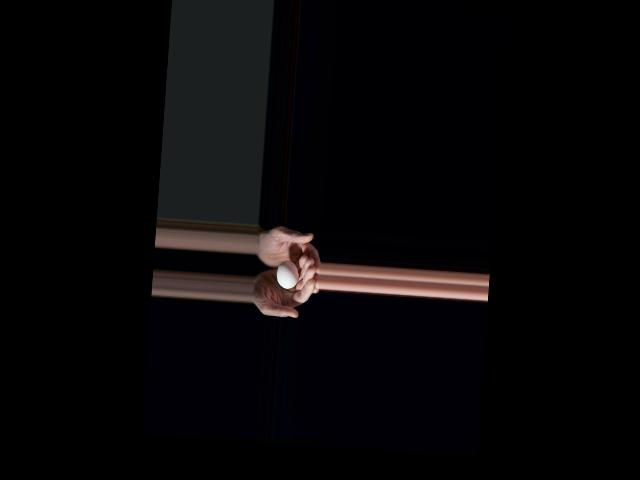egg: (275, 260, 299, 290)
